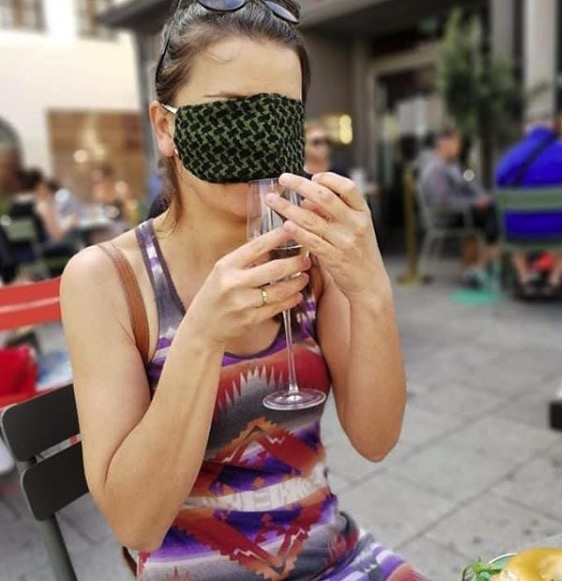mask_weared_incorrect: (173, 78, 317, 226)
without_mask: (310, 132, 329, 163), (444, 135, 463, 158)
